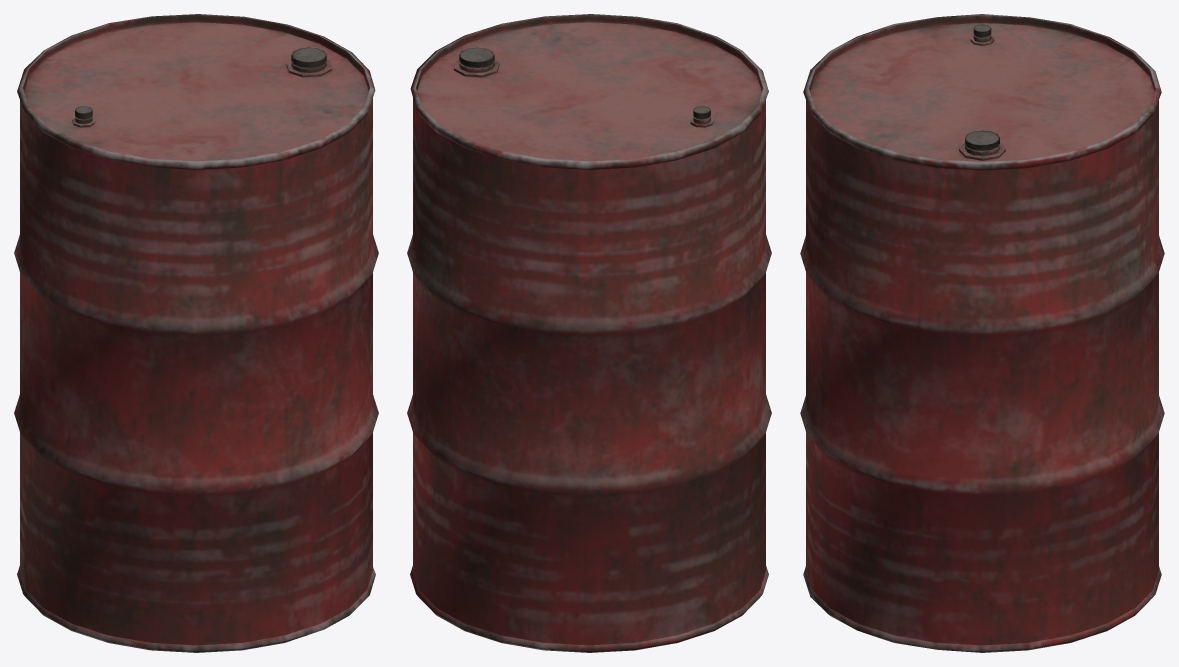
The model's file is barilrouge3mini.gltf.
The picture shows the model from 3 angles, left to right: view 1: azimuth 30°, elevation 25°; view 2: azimuth 150°, elevation 25°; view 3: azimuth 270°, elevation 25°; orthographic projection.
Visible parts, largest first — view 1: Barrel_Red_03_Barrel_Red_03_0; view 2: Barrel_Red_03_Barrel_Red_03_0; view 3: Barrel_Red_03_Barrel_Red_03_0.
Boxes of the visible parts, x1,y1,x2,y2 form: Barrel_Red_03_Barrel_Red_03_0: [14, 14, 378, 652]; Barrel_Red_03_Barrel_Red_03_0: [407, 14, 771, 652]; Barrel_Red_03_Barrel_Red_03_0: [800, 14, 1164, 652].
Bounding box in the file's own units: 0.8565 × 1.28 × 0.8565.
1 material, 1 textured.
